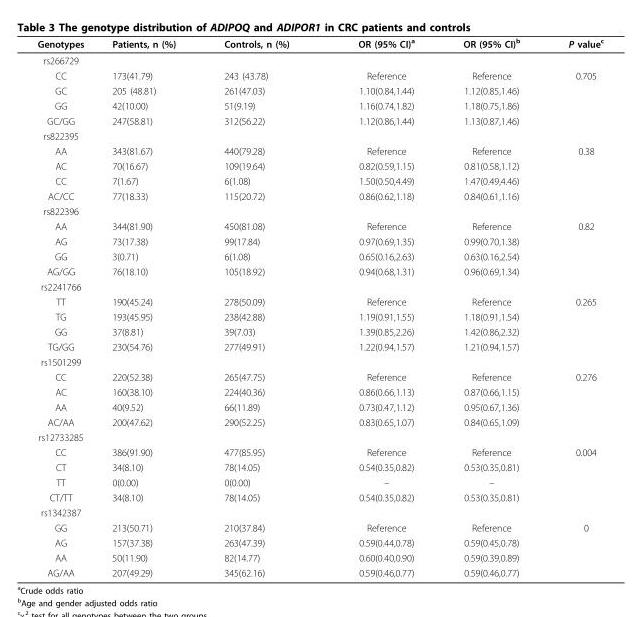table: (36, 36, 603, 578)
table column: (199, 36, 323, 578), (323, 36, 438, 578), (438, 36, 543, 578), (97, 36, 199, 578), (36, 36, 97, 578), (543, 36, 603, 578)
table column header: (36, 36, 603, 51)
table projected row header: (36, 51, 603, 67), (36, 128, 603, 143), (36, 203, 603, 218), (36, 278, 603, 293), (36, 354, 603, 369), (36, 429, 603, 444), (36, 504, 603, 519)
table row: (36, 51, 603, 67), (36, 97, 603, 113), (36, 338, 603, 354), (36, 36, 603, 51), (36, 67, 603, 82), (36, 82, 603, 97), (36, 113, 603, 128), (36, 128, 603, 143), (36, 143, 603, 158), (36, 158, 603, 173), (36, 173, 603, 188), (36, 188, 603, 203), (36, 203, 603, 218), (36, 218, 603, 233), (36, 233, 603, 248), (36, 248, 603, 263), (36, 263, 603, 278), (36, 278, 603, 293), (36, 293, 603, 308), (36, 308, 603, 323), (36, 323, 603, 338), (36, 354, 603, 369), (36, 369, 603, 384), (36, 384, 603, 399), (36, 399, 603, 414), (36, 414, 603, 429), (36, 429, 603, 444), (36, 444, 603, 459), (36, 459, 603, 474), (36, 474, 603, 489), (36, 489, 603, 504), (36, 504, 603, 519), (36, 519, 603, 534), (36, 534, 603, 549), (36, 549, 603, 564), (36, 564, 603, 578)
